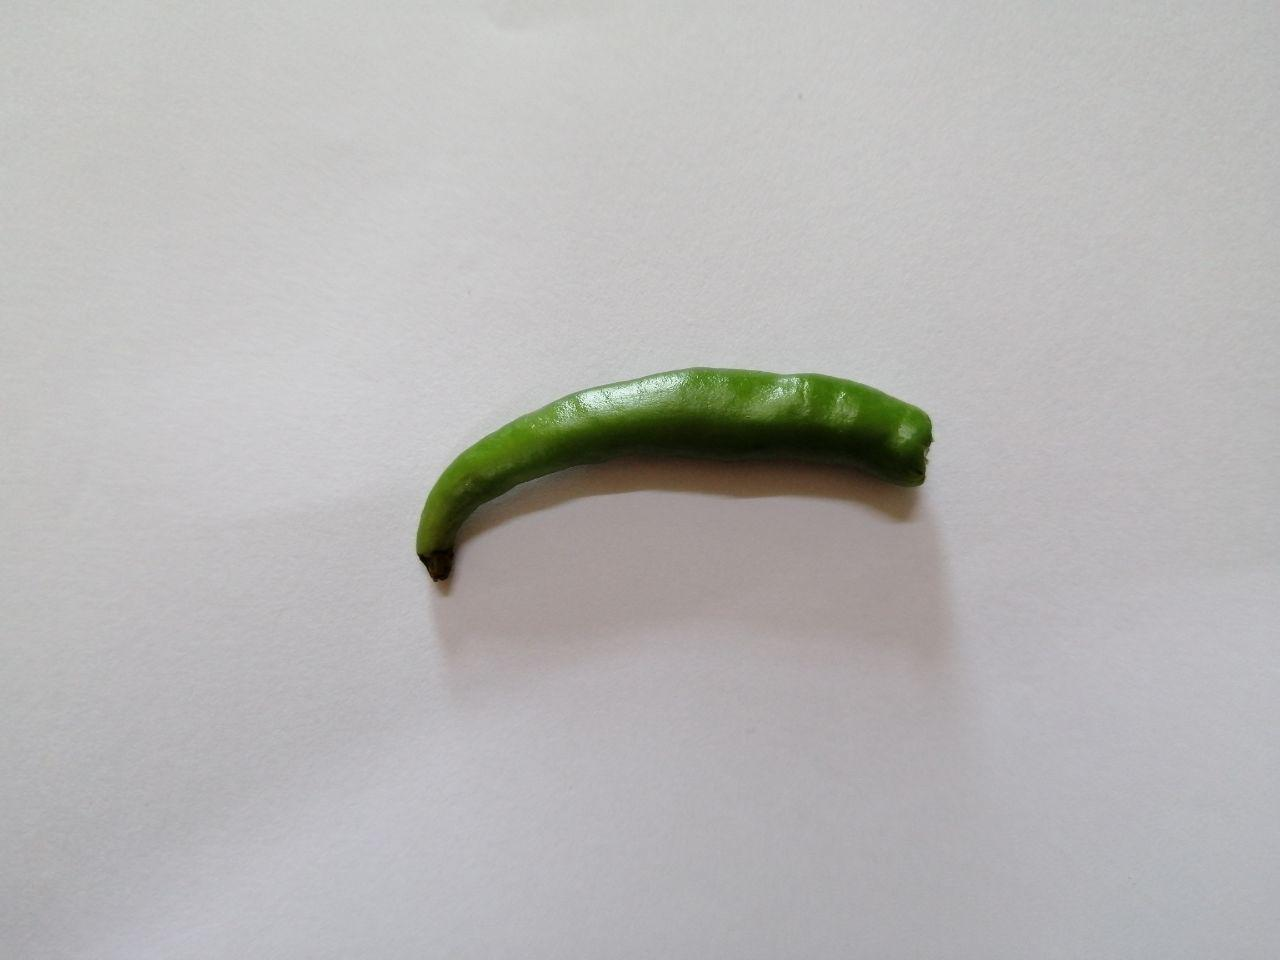lada hijau: (390, 342, 963, 605)
